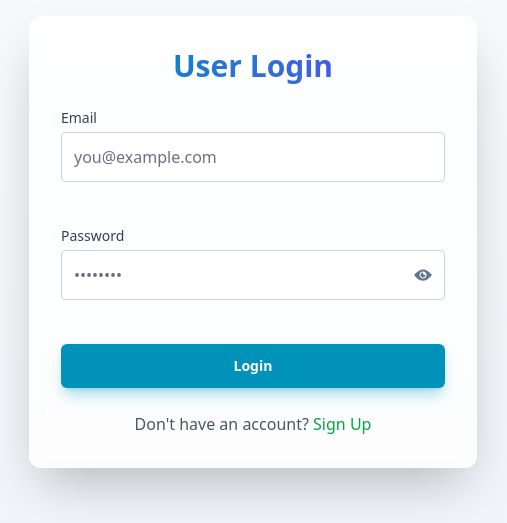
should show validation error when email is invalid
Type "invalid-email" into the field labelled "Email".
click(253, 157); type("invalid-email")  # box x1=61 y1=132 x2=445 y2=182
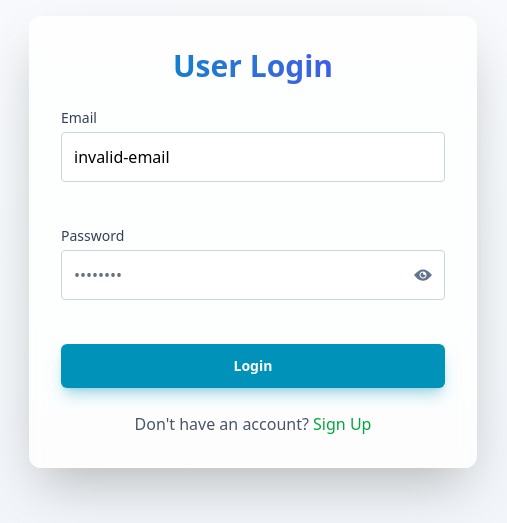
Leave the field labelled "Email", box x1=61 y1=132 x2=445 y2=182
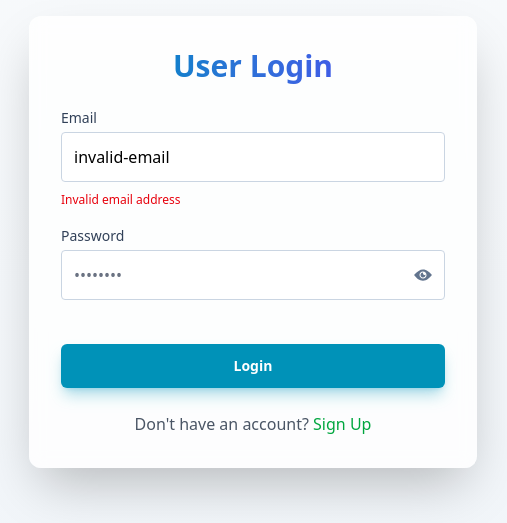
Result: the text "Invalid email address" is shown at x1=61 y1=191 x2=180 y2=208
